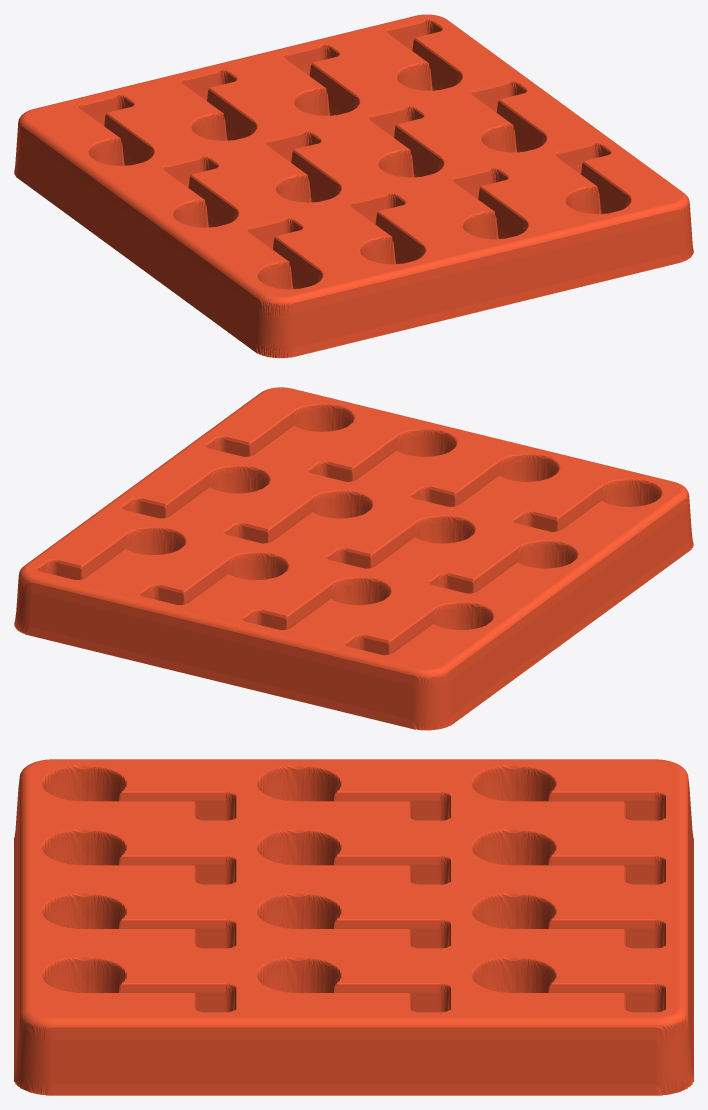
Rendered from mold.glb.
3 views of the same model, one above another, from view 1: azimuth 30°, elevation 25°; view 2: azimuth 150°, elevation 25°; view 3: azimuth 270°, elevation 25° (orthographic). The views are drawn at different scales.
Visible parts, largest first — view 1: geometry_0; view 2: geometry_0; view 3: geometry_0.
Boxes of the visible parts, bbox=[...] form: geometry_0: bbox=[14, 14, 693, 358]; geometry_0: bbox=[14, 387, 693, 730]; geometry_0: bbox=[14, 759, 693, 1095].
Size of the model in its own units: 0.1504 by 0.0185 by 0.1598.
